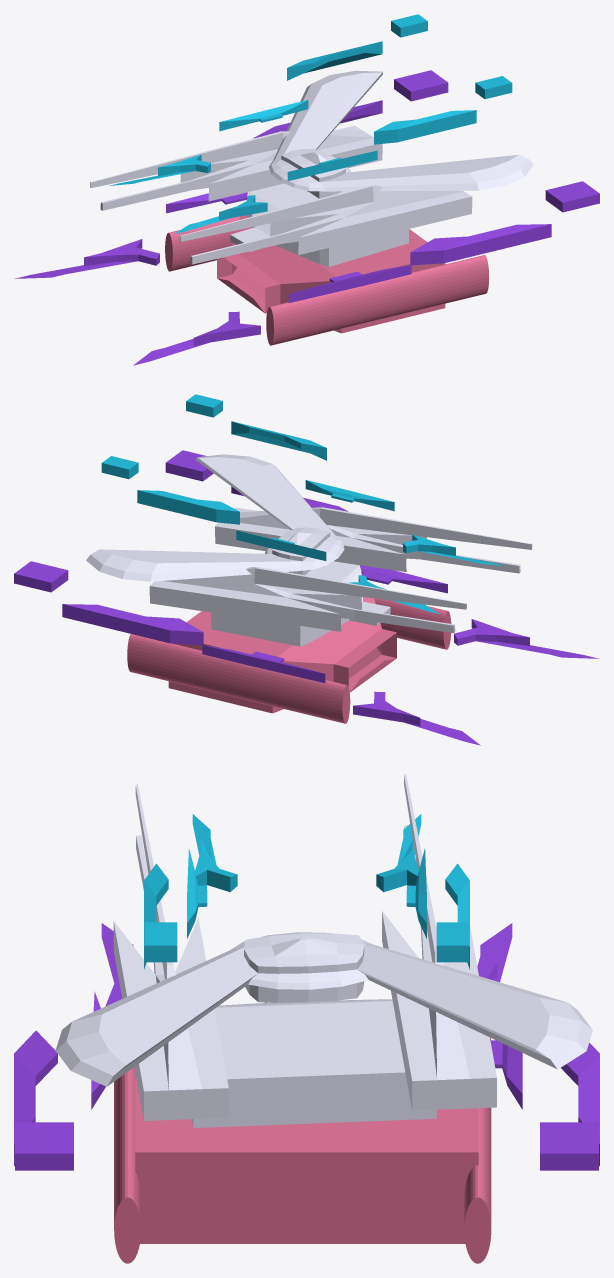
File: lastdance.fbx
The picture shows the model from 3 angles, top to bottom: view 1: azimuth 30°, elevation 25°; view 2: azimuth 150°, elevation 25°; view 3: azimuth 270°, elevation 25°; orthographic projection. The views are drawn at different scales.
Visible parts, largest first — view 1: Cube, Cube.003; view 2: Cube, Cube.003; view 3: Cube.003, Cube.
Boxes of the visible parts, x1,y1,x2,y2 form: Cube: [14, 14, 599, 365]; Cube.003: [90, 70, 533, 266]; Cube: [14, 394, 599, 745]; Cube.003: [86, 454, 532, 646]; Cube.003: [55, 774, 592, 1127]; Cube: [14, 814, 599, 1263].
Bounding box in the file's own units: 133 × 59.41 × 88.33.
